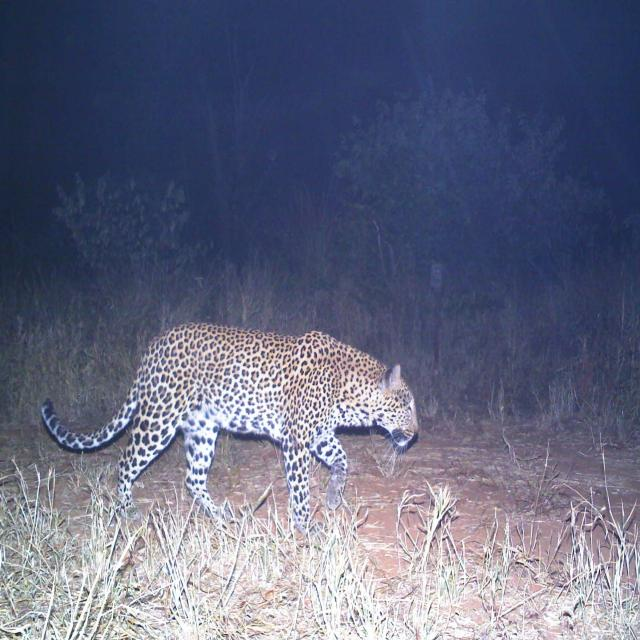Leopard: (41, 326, 421, 540)
